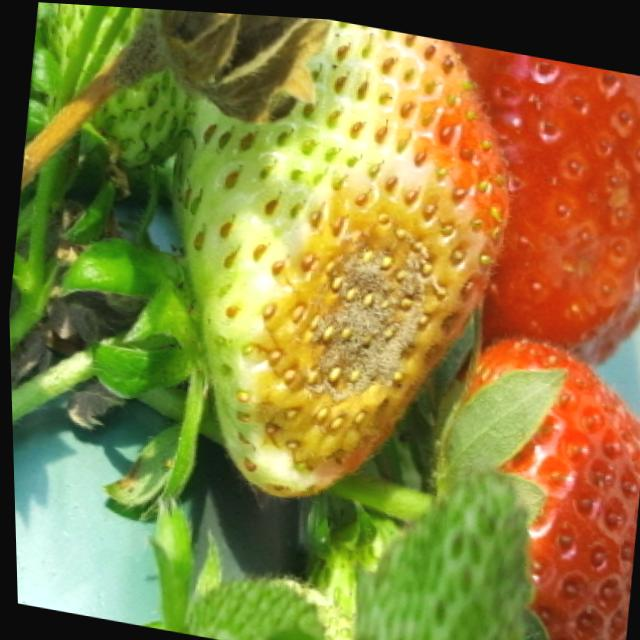Gray Mold: (239, 176, 476, 480), (113, 6, 330, 122)
